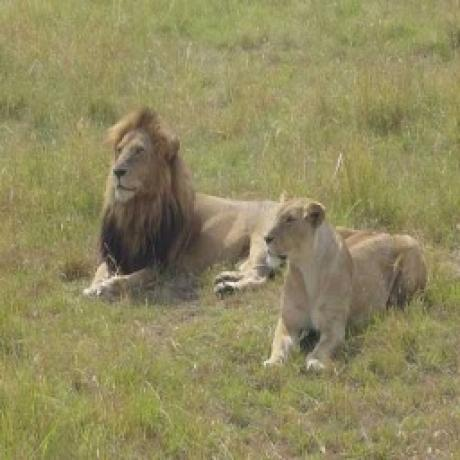Lion: (82, 101, 288, 303), (260, 190, 431, 372)
